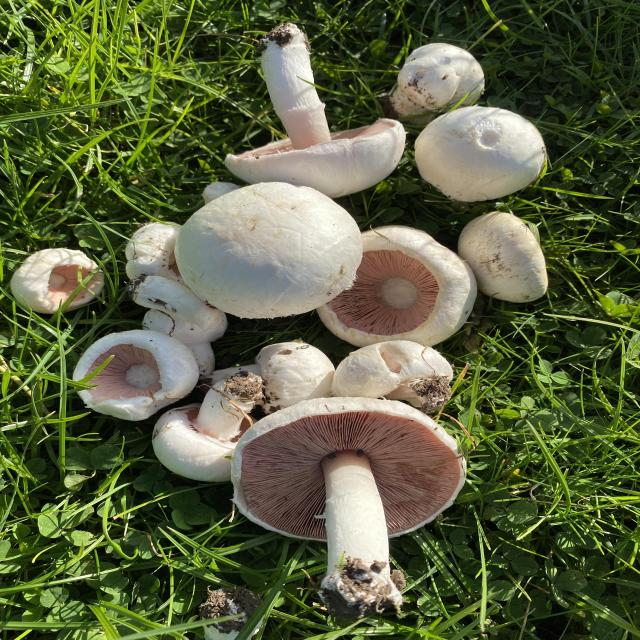field-mushroom: (231, 397, 466, 617), (224, 22, 406, 199), (172, 182, 363, 320), (318, 226, 477, 349), (412, 107, 548, 206), (151, 371, 265, 483), (72, 330, 200, 422), (328, 340, 454, 421), (208, 341, 335, 413), (454, 212, 550, 305), (9, 248, 102, 319)
